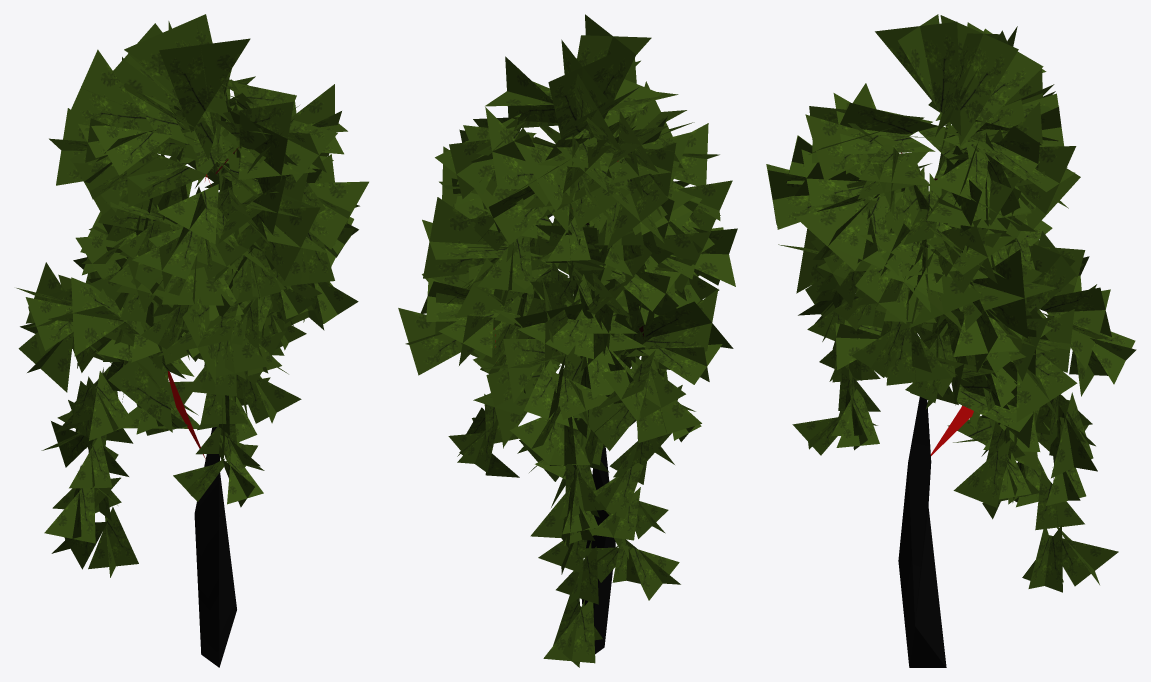
Rendered from birch 3 lod2.FBX.
3 renders of one model, left to right at view 1: azimuth 30°, elevation 25°; view 2: azimuth 150°, elevation 25°; view 3: azimuth 270°, elevation 25°, orthographic. The views are drawn at different scales.
Parts seen in each view (by area): view 1: birch3_LOD2; view 2: birch3_LOD2; view 3: birch3_LOD2.
Part boxes in pixels (x1,y1,x2,y2): birch3_LOD2: (16, 14, 368, 667); birch3_LOD2: (398, 14, 737, 667); birch3_LOD2: (766, 14, 1136, 667).
Size of the model in its own units: 59392 by 122248 by 63506.
